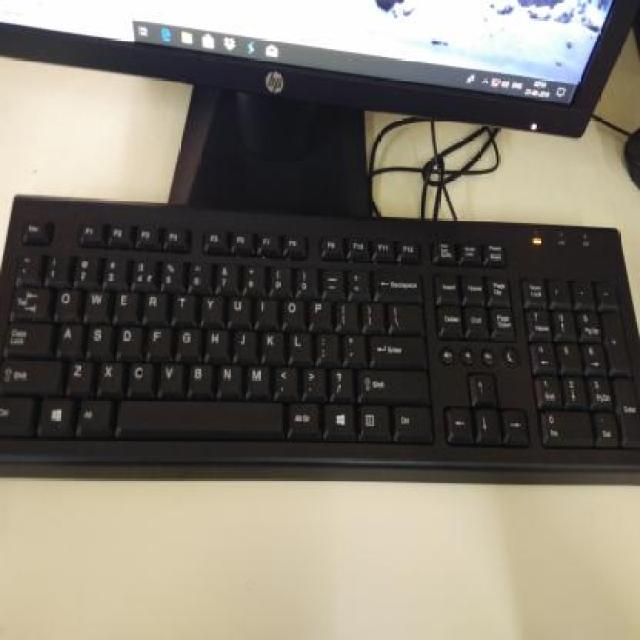keyboard: (0, 196, 640, 485)
